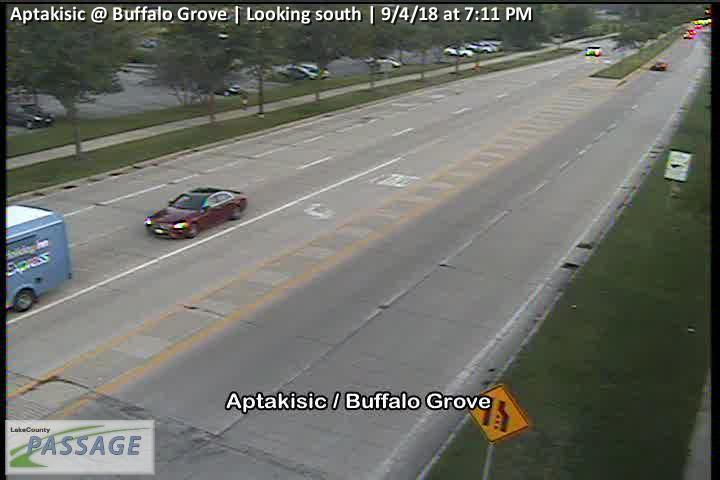SUV: (585, 44, 602, 56)
Sedan: (144, 187, 248, 239)
